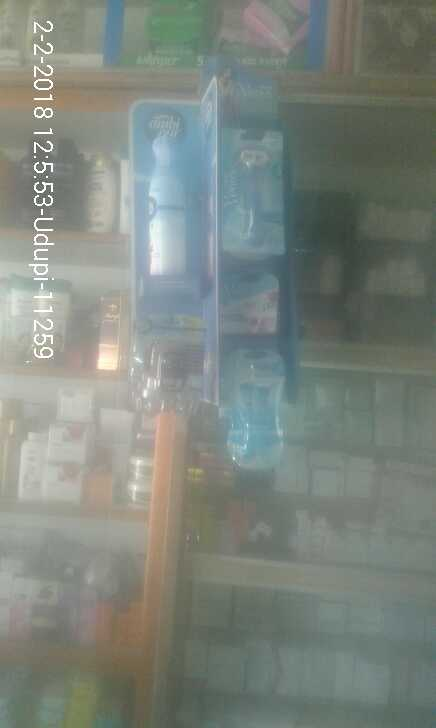beauty: (221, 130, 283, 260), (226, 353, 279, 457), (222, 277, 281, 332)
home: (140, 126, 191, 280)
